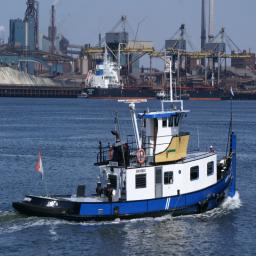tugboat: (12, 97, 239, 230)
